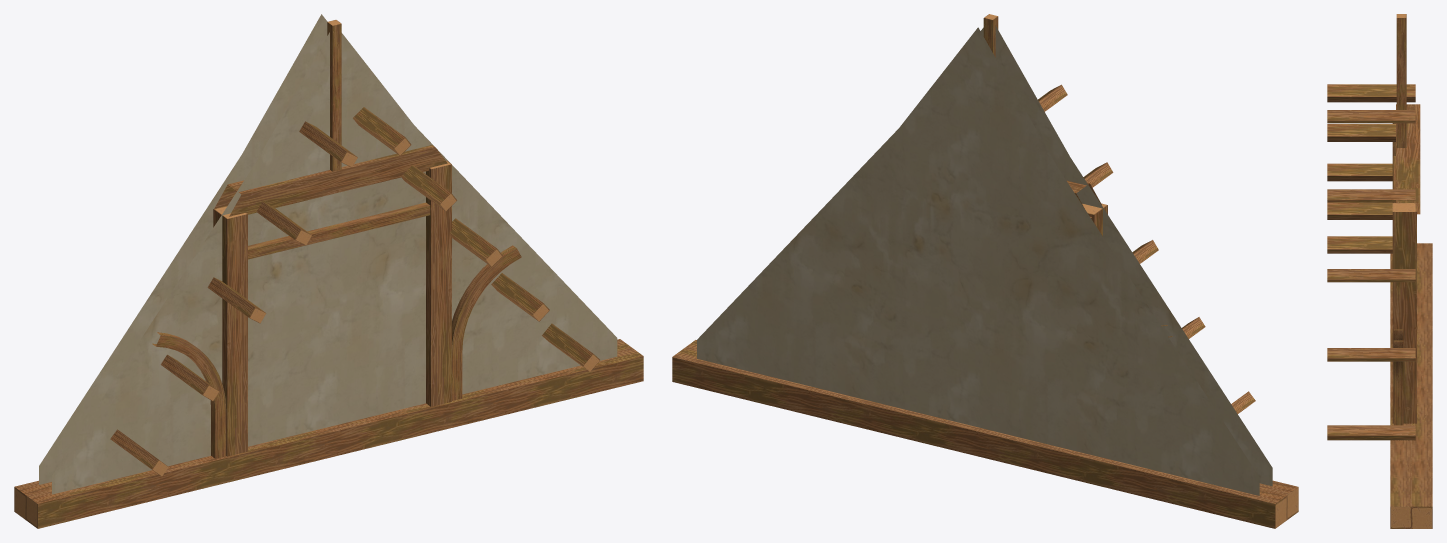
The model's file is roof_gable_brick.glb.
3 renders of one model, left to right at view 1: azimuth 30°, elevation 25°; view 2: azimuth 150°, elevation 25°; view 3: azimuth 270°, elevation 25°, orthographic. The views are drawn at different scales.
Parts seen in each view (by area): view 1: Roof_Front_Brick6; view 2: Roof_Front_Brick6; view 3: Roof_Front_Brick6.
Boxes of the visible parts, x1=… form: Roof_Front_Brick6: x1=14, y1=14, x2=643, y2=528; Roof_Front_Brick6: x1=672, y1=14, x2=1298, y2=528; Roof_Front_Brick6: x1=1327, y1=14, x2=1432, y2=528.
Size of the model in its own units: 6.69 by 4.52 by 1.13.
2 materials, 2 textured.
